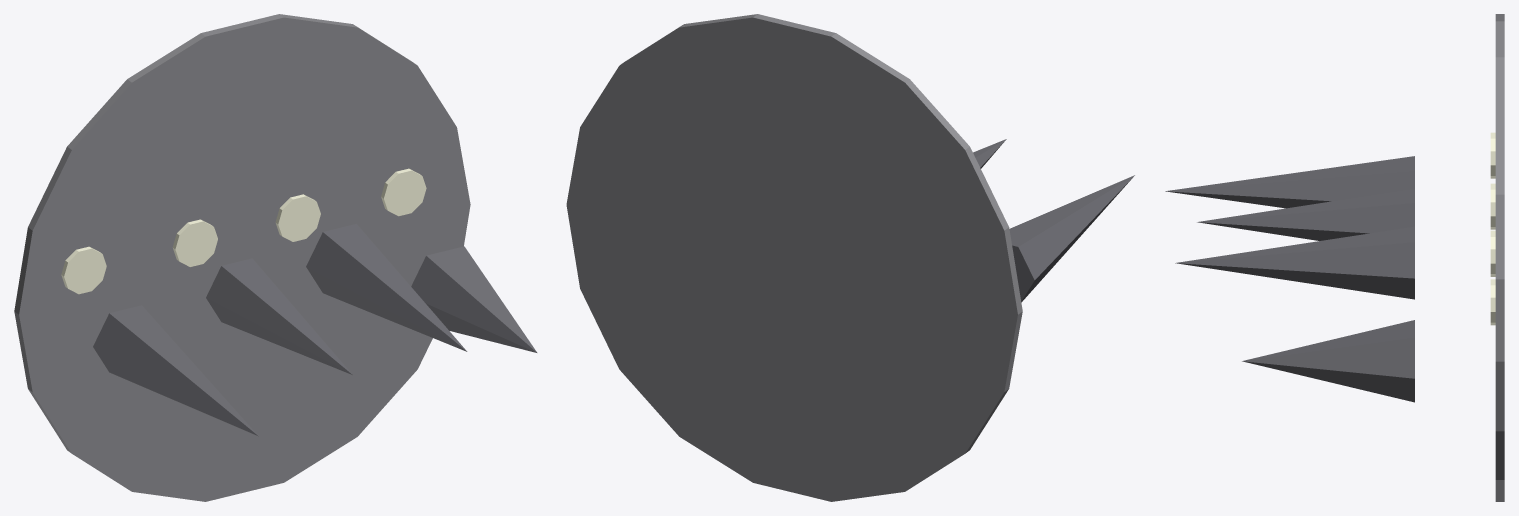
The model's file is 04_event_hazard_cluster.glb.
3 views of the same model, side by side, from view 1: azimuth 30°, elevation 25°; view 2: azimuth 150°, elevation 25°; view 3: azimuth 270°, elevation 25° (orthographic). The views are drawn at different scales.
Parts seen in each view (by area): view 1: scatter_base, basalt_shard_2, basalt_shard_0, basalt_shard_3, basalt_shard_1, lava_glow_0, lava_glow_1, lava_glow_3, lava_glow_2; view 2: scatter_base, basalt_shard_0; view 3: basalt_shard_2, basalt_shard_3, basalt_shard_0, basalt_shard_1, scatter_base.
Boxes of the visible parts, x1,y1,x2,y2 form: scatter_base: [14, 14, 470, 501]; basalt_shard_2: [306, 224, 467, 351]; basalt_shard_0: [93, 305, 258, 436]; basalt_shard_3: [411, 246, 537, 352]; basalt_shard_1: [206, 258, 352, 374]; lava_glow_0: [61, 246, 106, 294]; lava_glow_1: [172, 219, 217, 266]; lava_glow_3: [381, 168, 426, 216]; lava_glow_2: [275, 194, 320, 241]; scatter_base: [566, 14, 1022, 501]; basalt_shard_0: [1009, 175, 1134, 302]; basalt_shard_2: [1175, 226, 1414, 299]; basalt_shard_3: [1242, 320, 1414, 402]; basalt_shard_0: [1165, 156, 1414, 208]; basalt_shard_1: [1197, 188, 1414, 240]; scatter_base: [1495, 14, 1504, 501].
Bounding box in the file's own units: 1.9 × 1.87 × 1.32.
